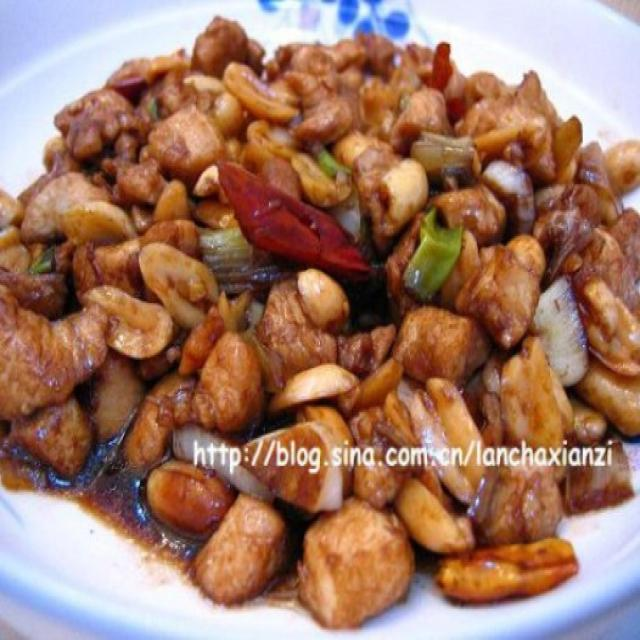鸡肉料理 含炸鸡: (17, 18, 623, 620)
